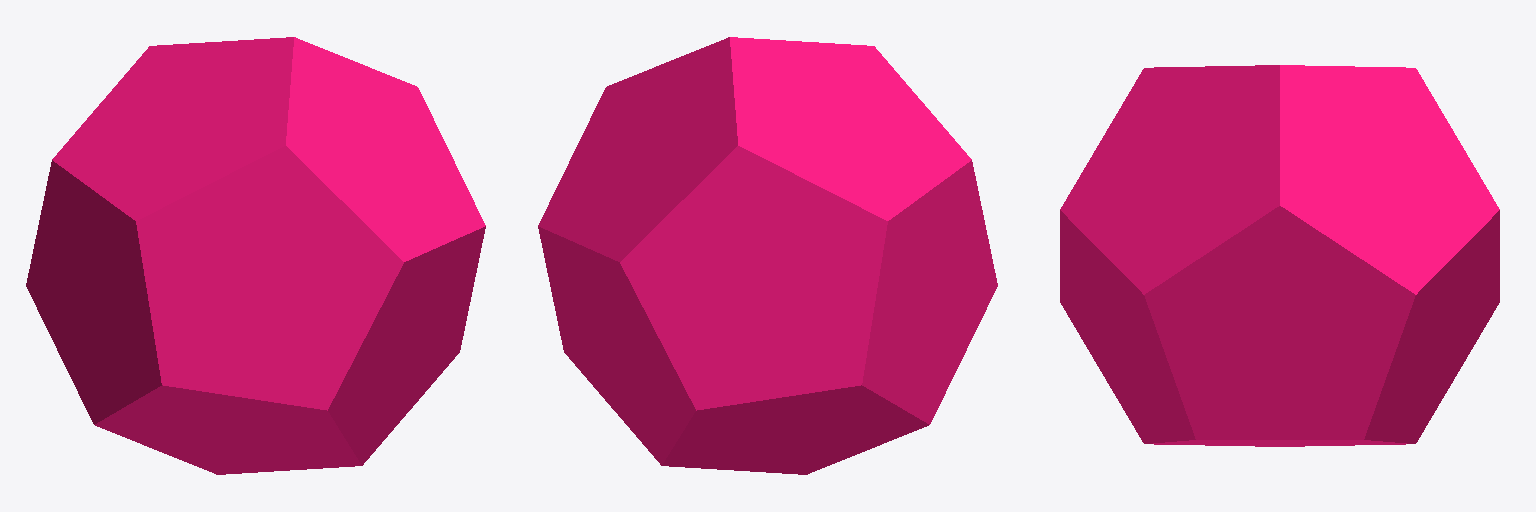
3 views of the same model, side by side, from view 1: azimuth 30°, elevation 25°; view 2: azimuth 150°, elevation 25°; view 3: azimuth 270°, elevation 25° (orthographic).
Parts seen in each view (by area): view 1: ICO球_ICO球.001; view 2: ICO球_ICO球.001; view 3: ICO球_ICO球.001.
Boxes of the visible parts, x1=… form: ICO球_ICO球.001: x1=26, y1=37, x2=485, y2=474; ICO球_ICO球.001: x1=538, y1=37, x2=997, y2=474; ICO球_ICO球.001: x1=1060, y1=65, x2=1499, y2=446.
Bounding box in the file's own units: 18.94 × 23.42 × 22.27.